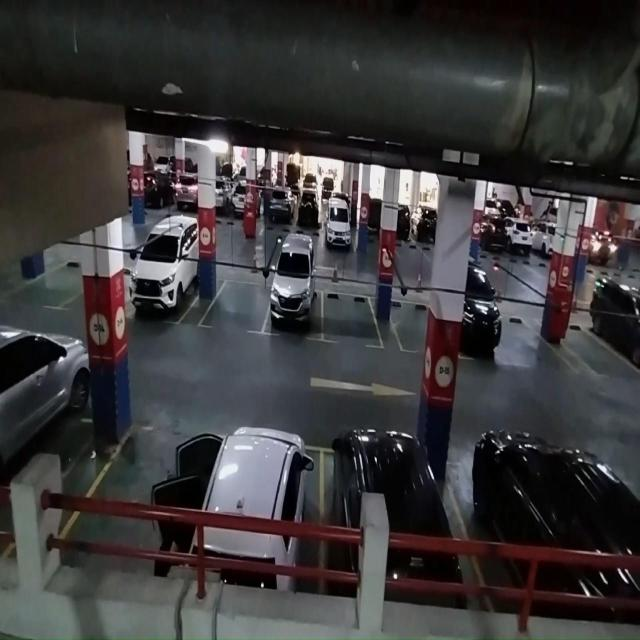empty: (78, 424, 202, 574), (197, 279, 270, 336), (322, 288, 384, 348), (389, 298, 429, 353)
occupied: (320, 429, 462, 594), (193, 426, 323, 590), (129, 224, 199, 326), (266, 250, 324, 342)
